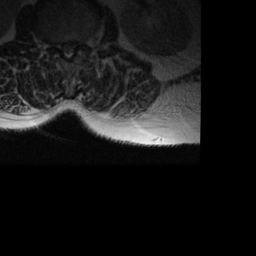CCS_stenosis: (65, 37, 72, 65)
LFS_severe_stenosis: (78, 35, 84, 52)
LLS_stenosis: (72, 37, 77, 53)
RFS_severe_stenosis: (53, 35, 60, 53)
RLS_stenosis: (60, 37, 65, 55)
